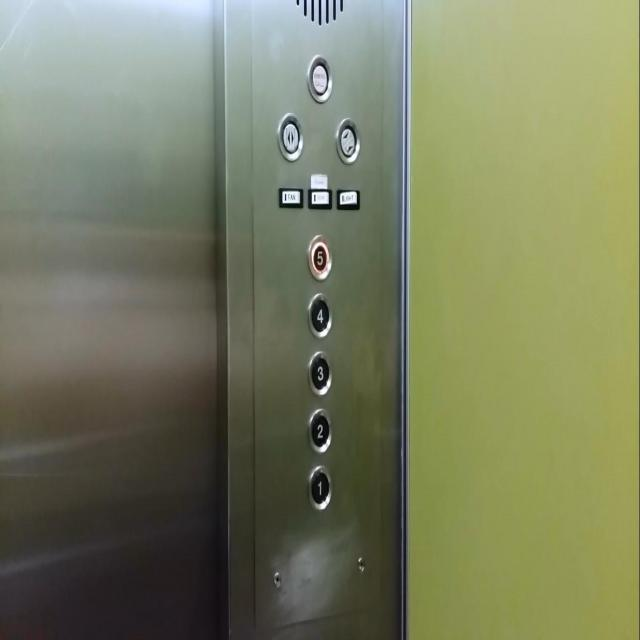1: (307, 463, 332, 510)
2: (307, 406, 332, 454)
3: (307, 349, 333, 397)
4: (307, 290, 333, 339)
5: (307, 232, 333, 281)
close: (336, 116, 360, 166)
open: (277, 111, 303, 162)
text_blur: (307, 54, 333, 104), (307, 187, 332, 208)
text_fan: (277, 186, 303, 207)
text_light: (336, 188, 359, 209)
